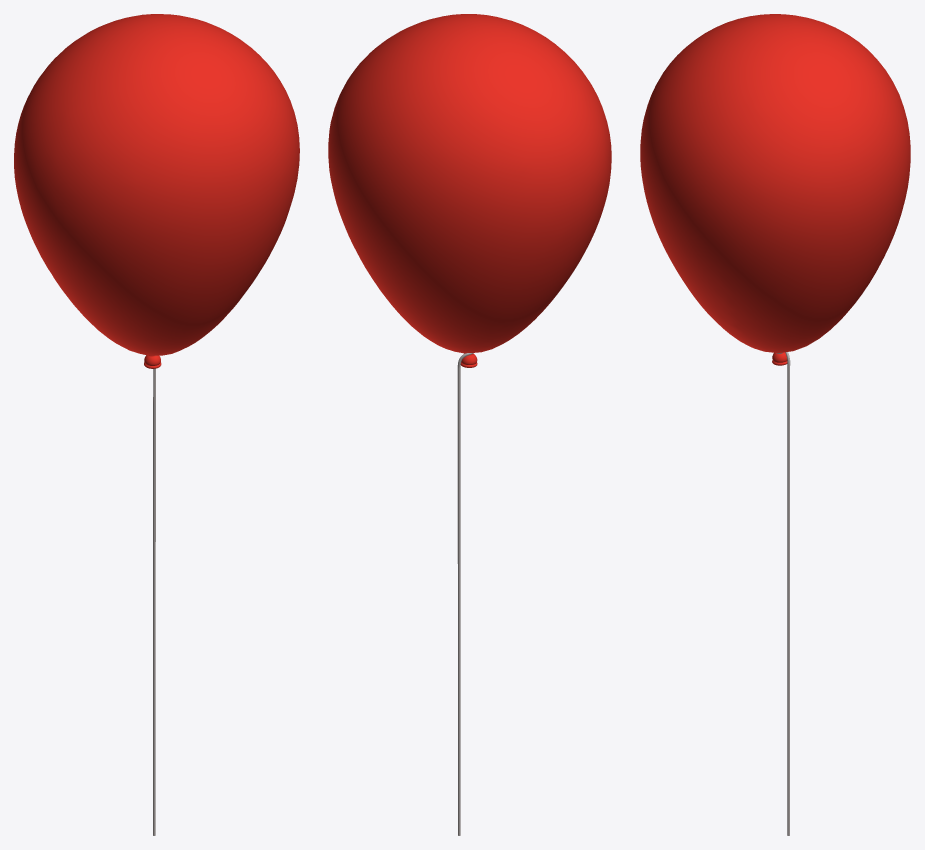
The model's file is balloon_ori.fbx.
3 views of the same model, side by side, from view 1: azimuth 30°, elevation 25°; view 2: azimuth 150°, elevation 25°; view 3: azimuth 270°, elevation 25° (orthographic).
Parts seen in each view (by area): view 1: node_id30; view 2: node_id30; view 3: node_id30.
Part boxes in pixels (x1,y1,x2,y2): node_id30: (14, 14, 299, 835); node_id30: (328, 14, 611, 835); node_id30: (640, 14, 910, 835).
Size of the model in its own units: 0.1664 by 0.512 by 0.1557.
1 material, 1 textured.
